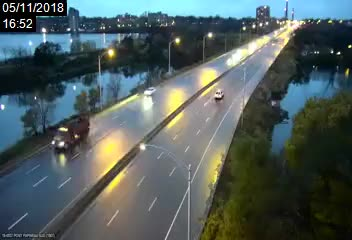personal_car: (144, 87, 156, 97), (214, 90, 225, 100)
truck: (50, 116, 91, 153)
